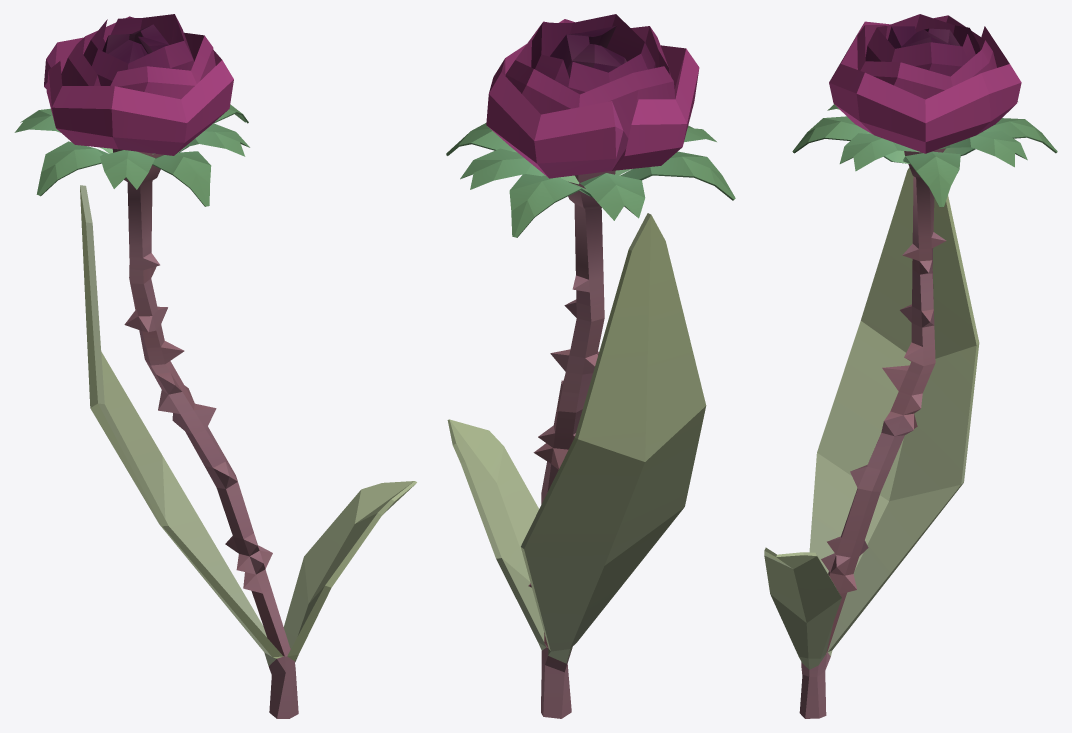
File: Rose_Pink.fbx
The picture shows the model from 3 angles, left to right: view 1: azimuth 30°, elevation 25°; view 2: azimuth 150°, elevation 25°; view 3: azimuth 270°, elevation 25°; orthographic projection. The views are drawn at different scales.
Visible parts, largest first — view 1: Rose_Pink; view 2: Rose_Pink; view 3: Rose_Pink.
Boxes of the visible parts, x1,y1,x2,y2 form: Rose_Pink: (14,14,416,718); Rose_Pink: (446,14,735,718); Rose_Pink: (764,14,1057,718).
Size of the model in its own units: 25.08 by 50.38 by 20.65.
